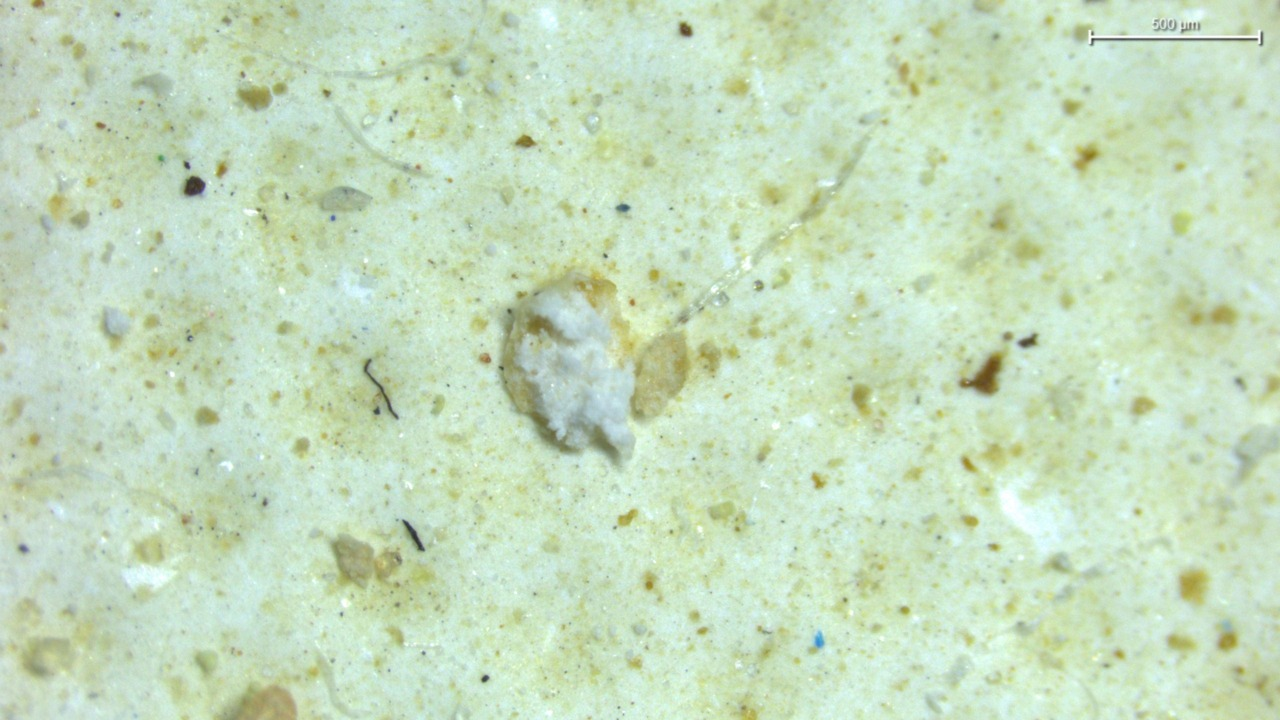microplastic_fragment: (501, 274, 634, 457), (631, 330, 688, 416), (332, 534, 373, 582), (321, 186, 372, 211), (104, 307, 131, 337)
